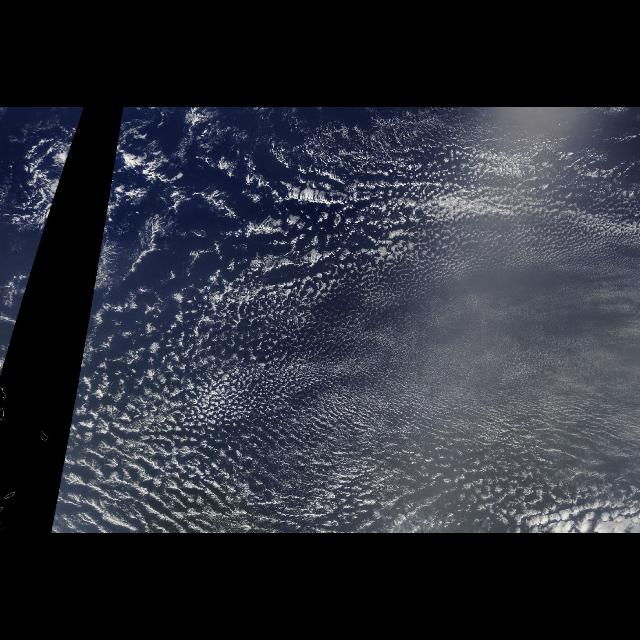Sugar: (126, 128, 638, 532)
